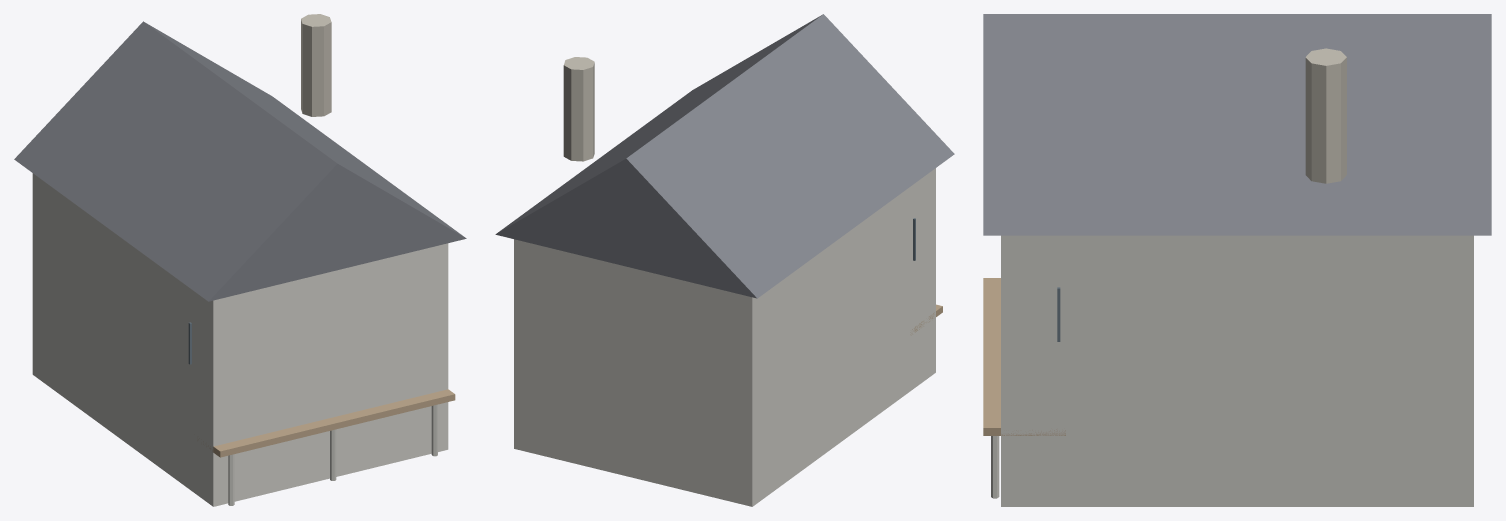
The model's file is Farmhouse.glb.
3 renders of one model, left to right at view 1: azimuth 30°, elevation 25°; view 2: azimuth 150°, elevation 25°; view 3: azimuth 270°, elevation 25°, orthographic. The views are drawn at different scales.
Parts seen in each view (by area): view 1: House, Roof, Porch, Chimney; view 2: House, Roof, Chimney; view 3: House, Roof, Chimney, Porch, Limb.059.
Boxes of the visible parts, left/top/right/bottom form: House: left=32, top=173, right=448, bottom=506; Roof: left=14, top=21, right=466, bottom=301; Porch: left=197, top=389, right=455, bottom=457; Chimney: left=301, top=14, right=331, bottom=116; House: left=514, top=168, right=935, bottom=506; Roof: left=495, top=14, right=954, bottom=298; Chimney: left=563, top=57, right=594, bottom=161; House: left=1001, top=235, right=1473, bottom=506; Roof: left=983, top=14, right=1491, bottom=235; Chimney: left=1305, top=48, right=1346, bottom=183; Porch: left=983, top=278, right=1065, bottom=435; Limb.059: left=991, top=436, right=999, bottom=498.
Size of the model in its own units: 6.6 by 8.3 by 8.6.
